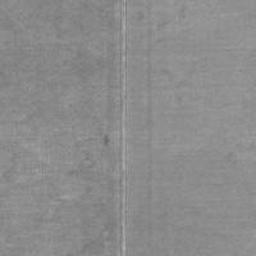Welding line: (119, 0, 128, 256)
